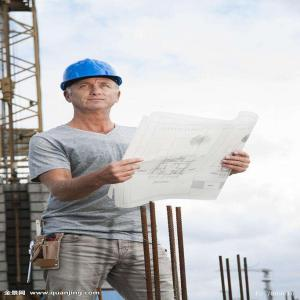blue: (61, 60, 125, 119)
